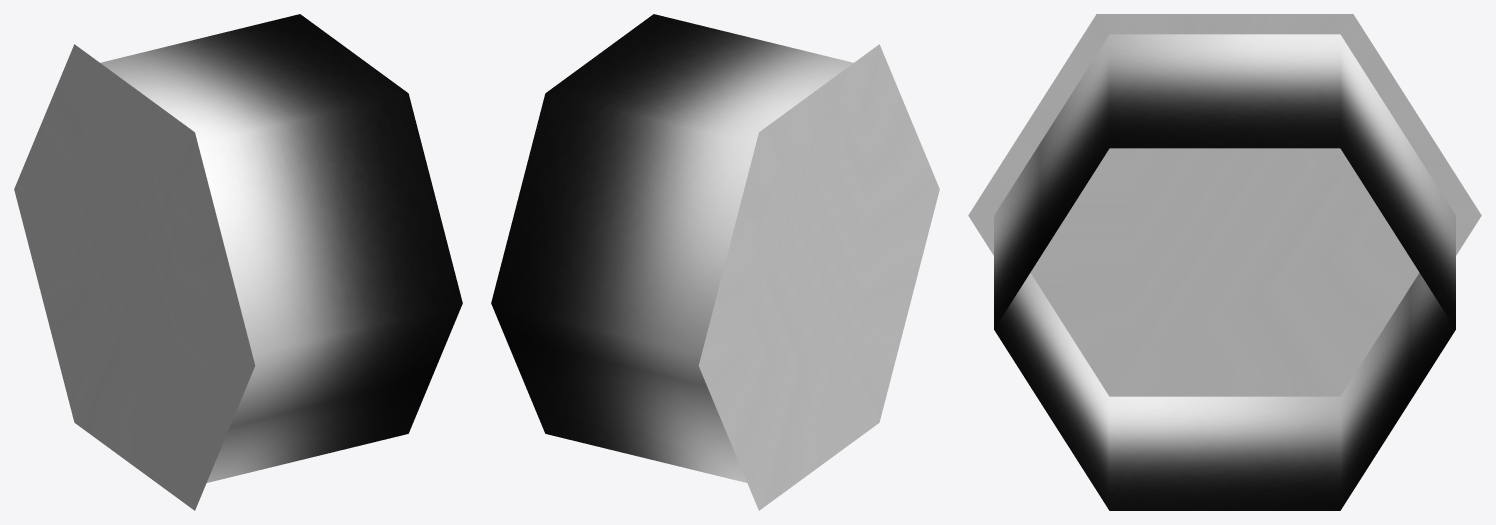
File: lMODER001.FBX
3 views of the same model, side by side, from view 1: azimuth 30°, elevation 25°; view 2: azimuth 150°, elevation 25°; view 3: azimuth 270°, elevation 25° (orthographic). The views are drawn at different scales.
Parts seen in each view (by area): view 1: Object002, Cylinder001; view 2: Object002, Cylinder001; view 3: Object002, Cylinder001.
Boxes of the visible parts, x1,y1,x2,y2 form: Object002: (100,14,462,482); Cylinder001: (14,44,255,510); Object002: (491,14,853,482); Cylinder001: (698,44,939,510); Object002: (994,34,1455,510); Cylinder001: (968,14,1481,396).
Size of the model in its own units: 334 by 635 by 550.
